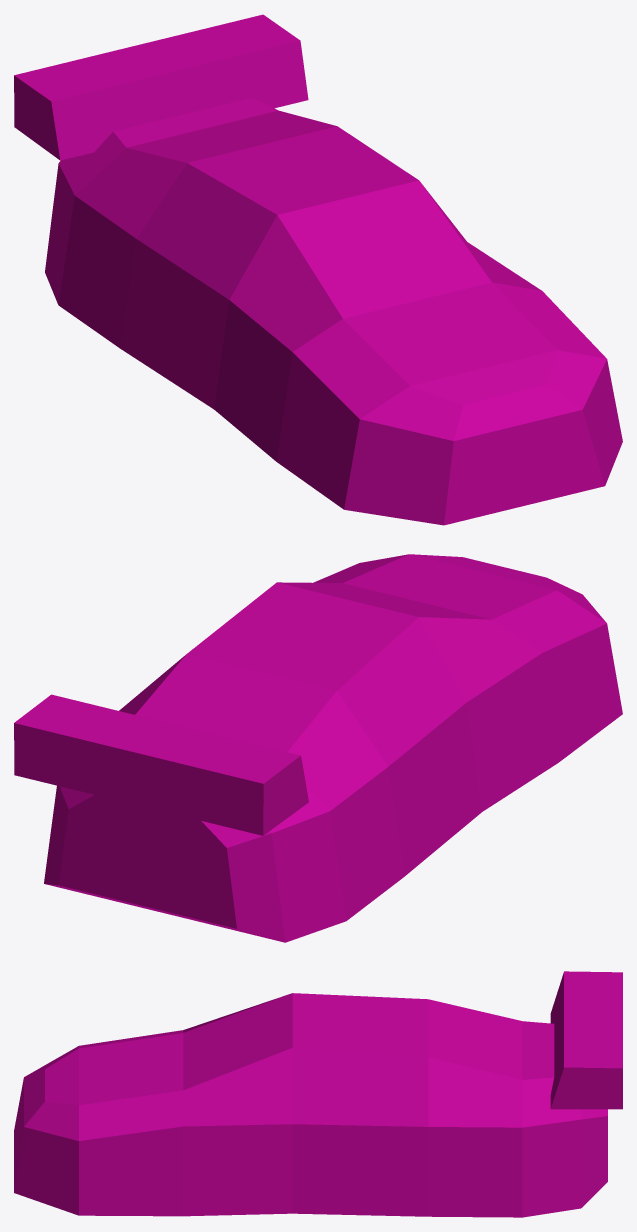
The model's file is SM_Veh_Touring_01_Preset_03_Collision.fbx.
3 views of the same model, one above another, from view 1: azimuth 30°, elevation 25°; view 2: azimuth 150°, elevation 25°; view 3: azimuth 270°, elevation 25° (orthographic). The views are drawn at different scales.
Visible parts, largest first — view 1: SM_Veh_Touring_01_Preset_03_Collision; view 2: SM_Veh_Touring_01_Preset_03_Collision; view 3: SM_Veh_Touring_01_Preset_03_Collision.
Part boxes in pixels (x1=…): SM_Veh_Touring_01_Preset_03_Collision: x1=14, y1=14, x2=622, y2=525; SM_Veh_Touring_01_Preset_03_Collision: x1=14, y1=554, x2=622, y2=942; SM_Veh_Touring_01_Preset_03_Collision: x1=14, y1=971, x2=622, y2=1217.
Bounding box in the file's own units: 233 × 139 × 538.
